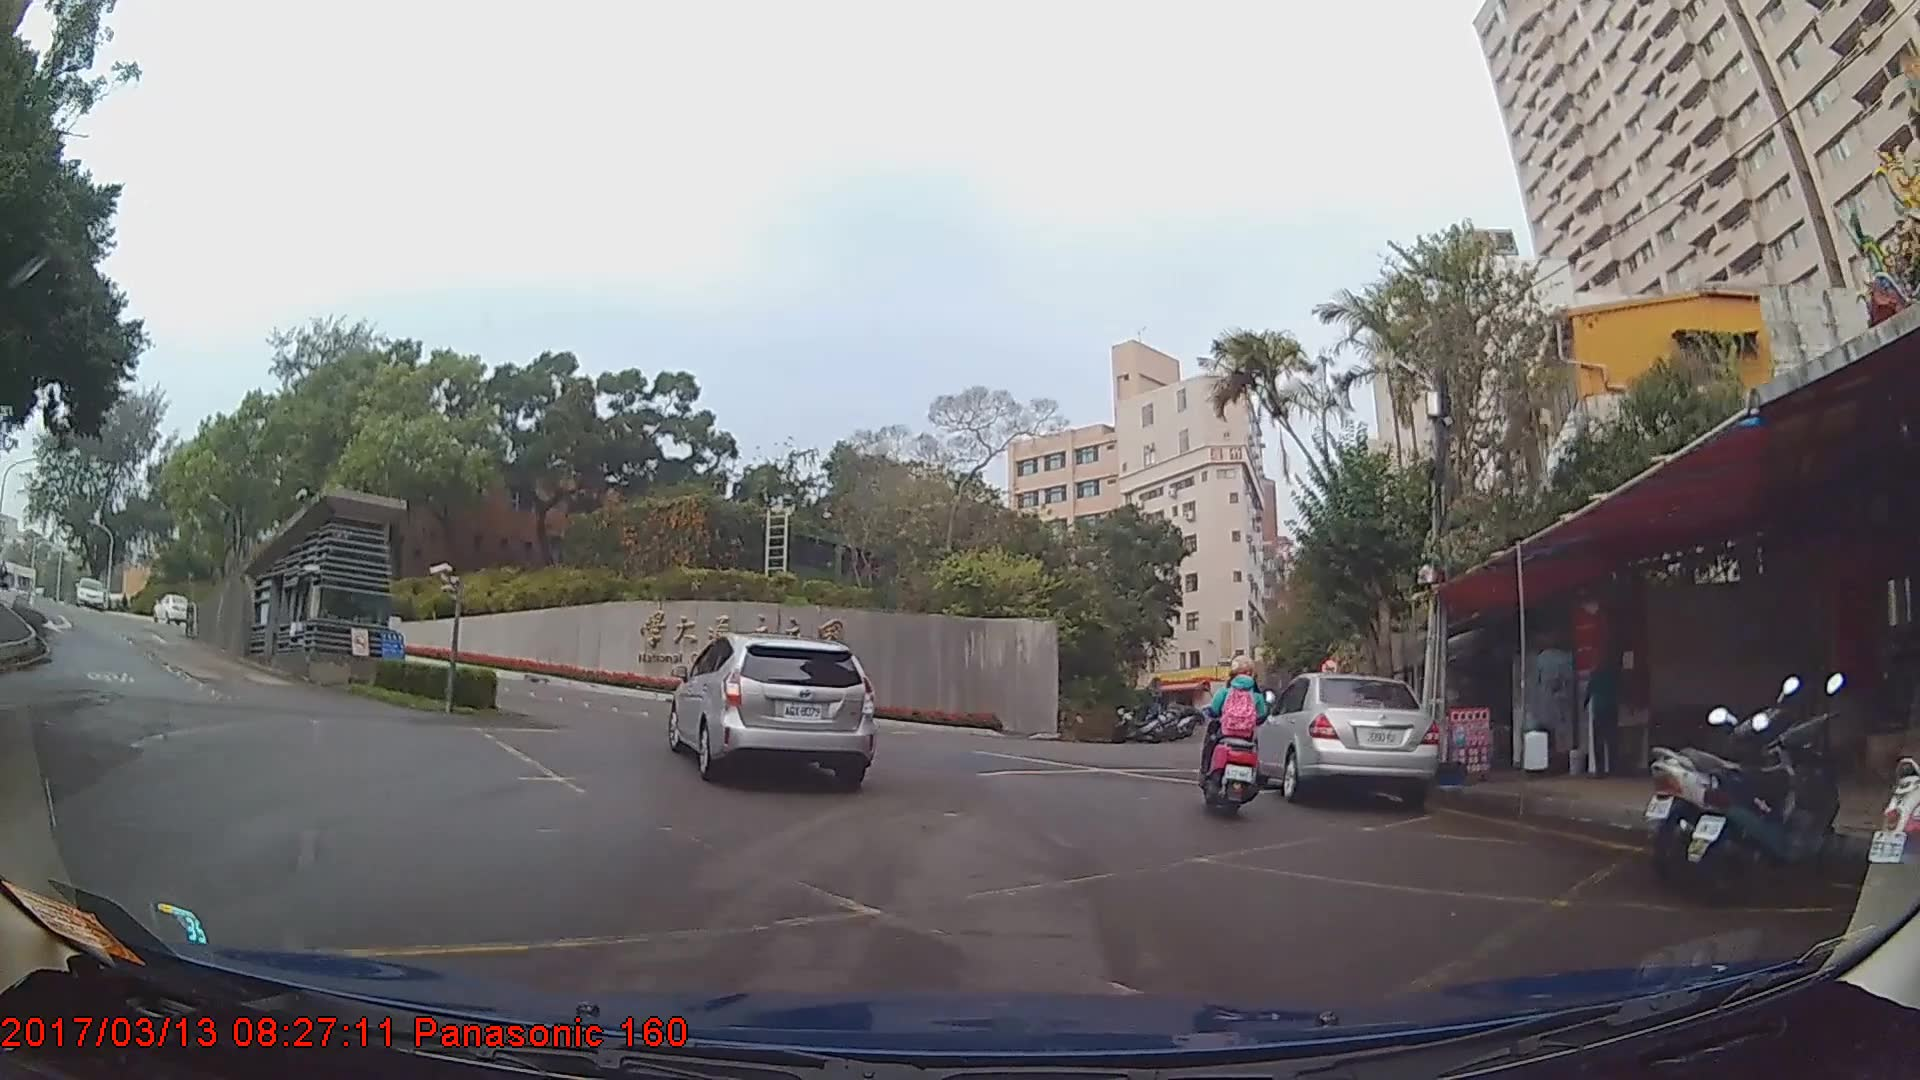pedestrian: (1576, 638, 1631, 776)
rider: (1196, 660, 1272, 828)
vehicle: (666, 630, 879, 786), (1249, 672, 1442, 802), (71, 574, 109, 609), (151, 592, 192, 623)
